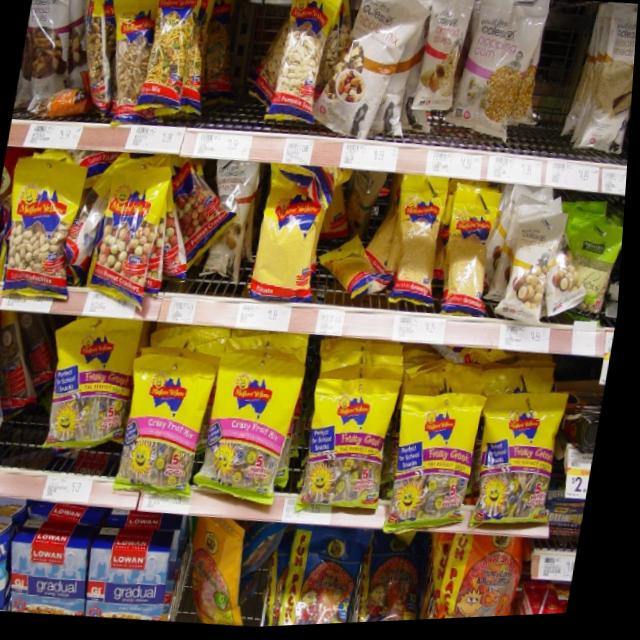q88: (85, 153, 179, 307)
